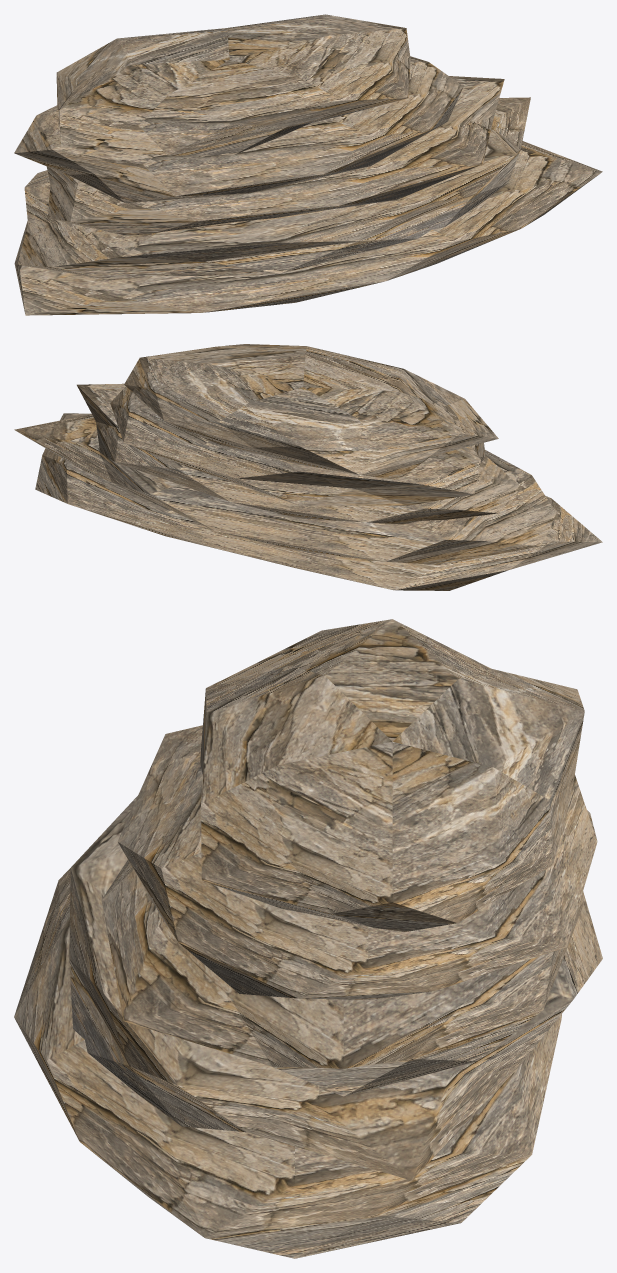
The model's file is strata-shelf.glb.
3 renders of one model, top to bottom at view 1: azimuth 30°, elevation 25°; view 2: azimuth 150°, elevation 25°; view 3: azimuth 270°, elevation 25°, orthographic. The views are drawn at different scales.
Parts seen in each view (by area): view 1: strata-shelf; view 2: strata-shelf; view 3: strata-shelf.
Part boxes in pixels (x1,y1,x2,y2): strata-shelf: [14, 14, 602, 315]; strata-shelf: [14, 344, 602, 590]; strata-shelf: [14, 619, 602, 1258].
Bounding box in the file's own units: 6.77 × 2.01 × 3.62.
1 material, 1 textured.
